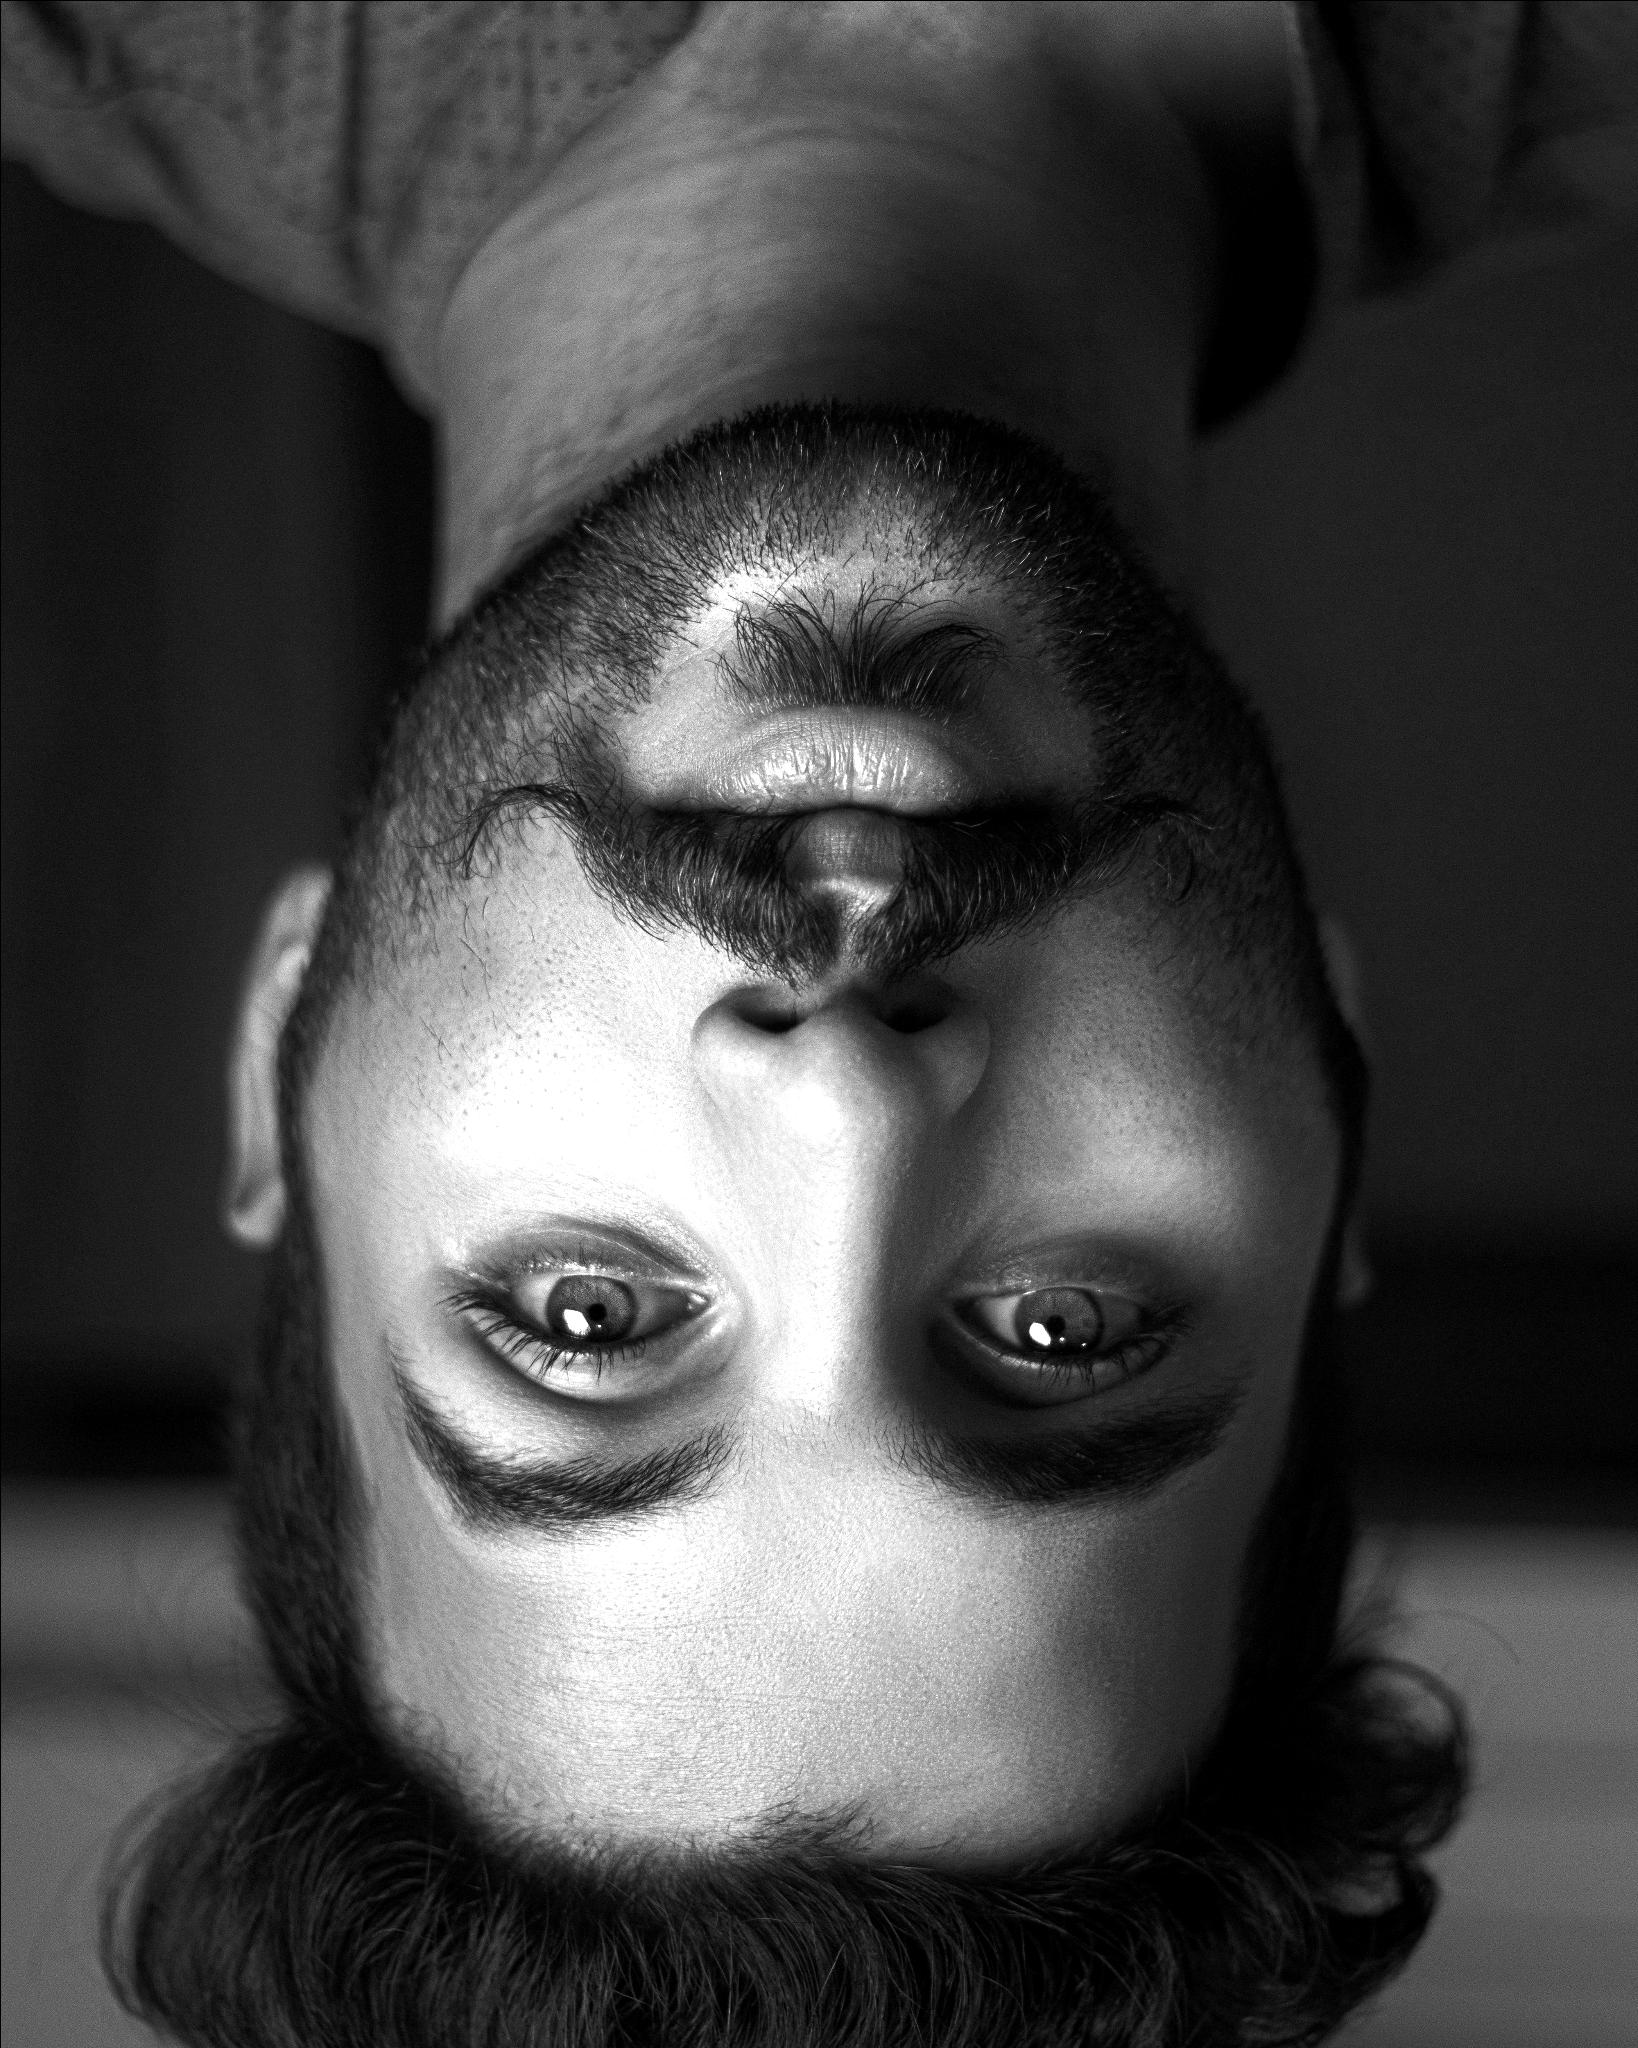bar: (281, 401, 1330, 1246)
